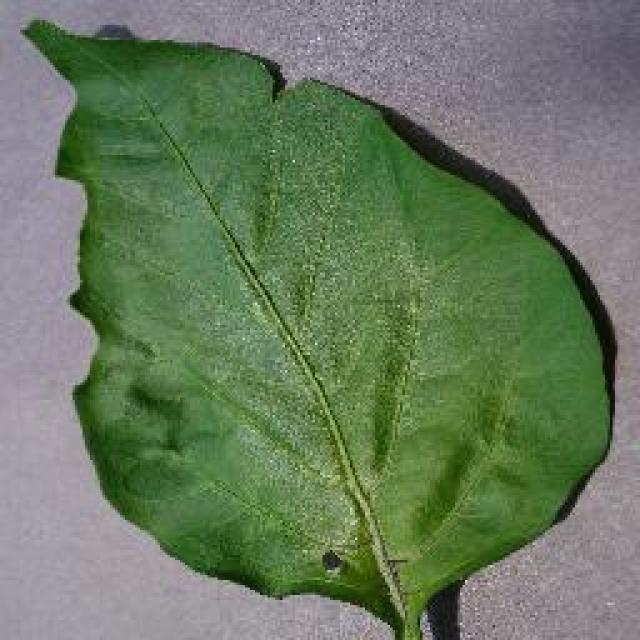Chilli_Healthy: (18, 15, 618, 637)
